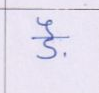ai_matra: (37, 17, 56, 36)
